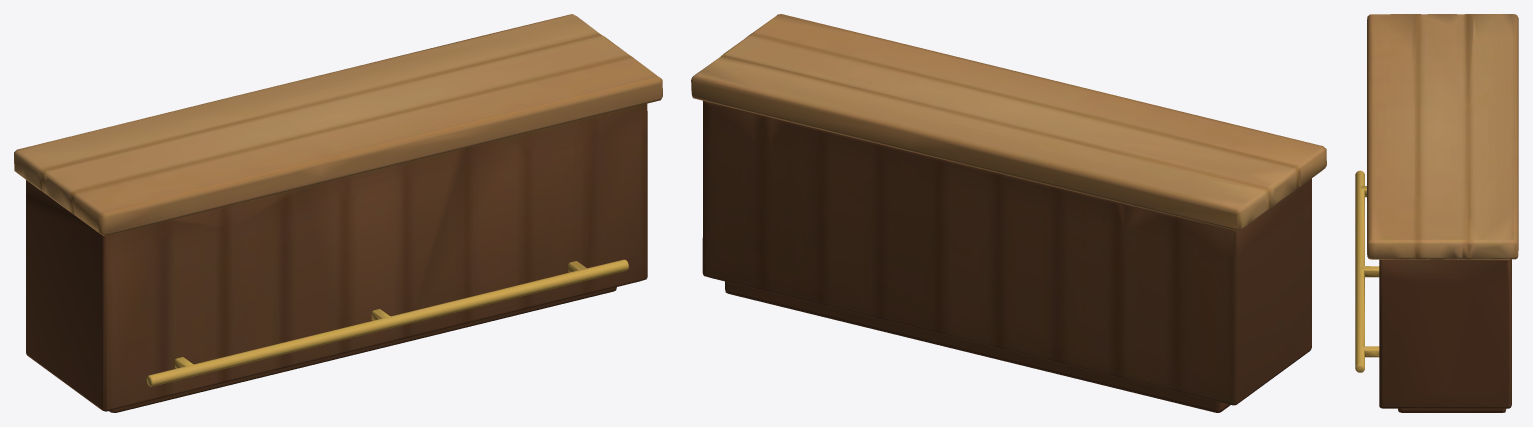
The model's file is counter.glb.
3 views of the same model, side by side, from view 1: azimuth 30°, elevation 25°; view 2: azimuth 150°, elevation 25°; view 3: azimuth 270°, elevation 25° (orthographic). The views are drawn at different scales.
Visible parts, largest first — view 1: top; view 2: top; view 3: top.
Part boxes in pixels (box(x1,y1,x2,y2)): top: box(14, 14, 662, 412); top: box(691, 14, 1326, 412); top: box(1355, 14, 1518, 412).
Size of the model in its own units: 2 by 0.7501 by 0.6031.
Materials: 1 (1 with a texture image).
